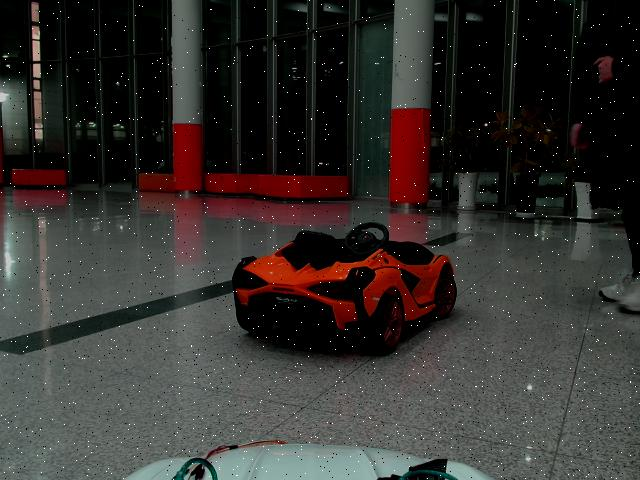car: (232, 223, 458, 356)
